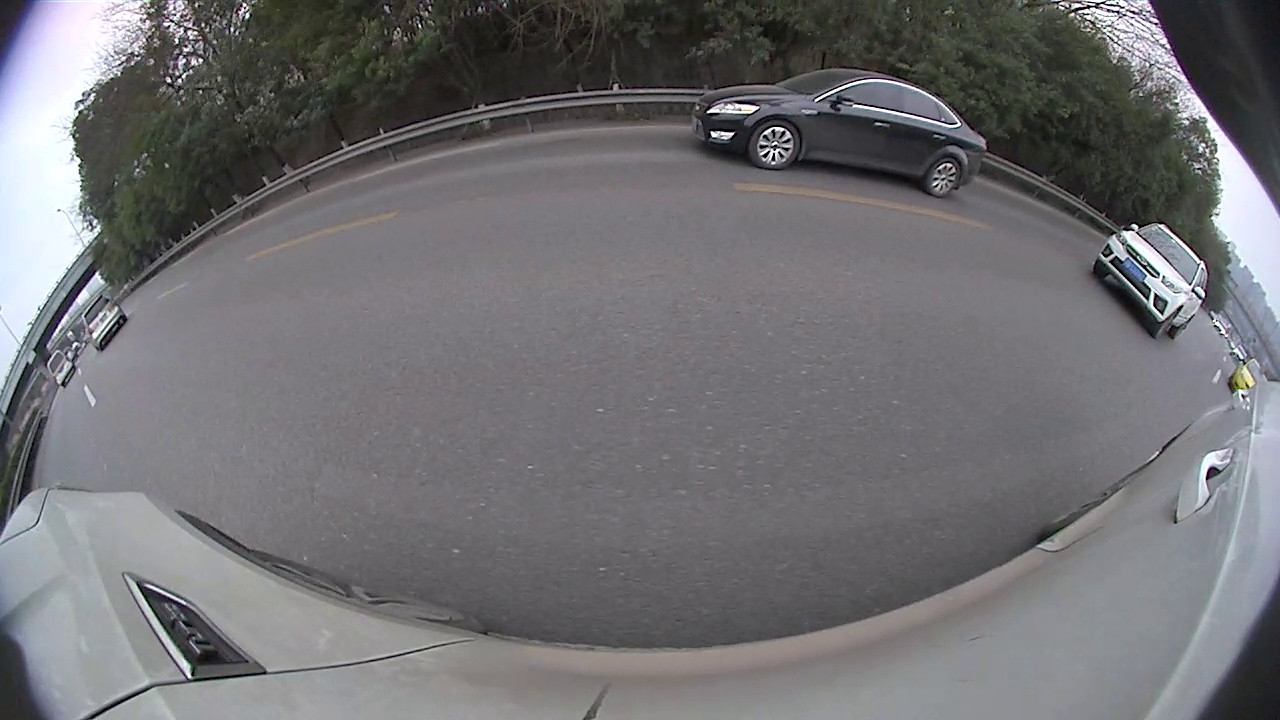car: (690, 66, 988, 200), (1091, 221, 1209, 341), (80, 292, 130, 353), (1226, 357, 1270, 395), (46, 349, 77, 389)
front: (752, 121, 798, 169), (1154, 310, 1178, 340)
rear: (926, 157, 961, 197)
